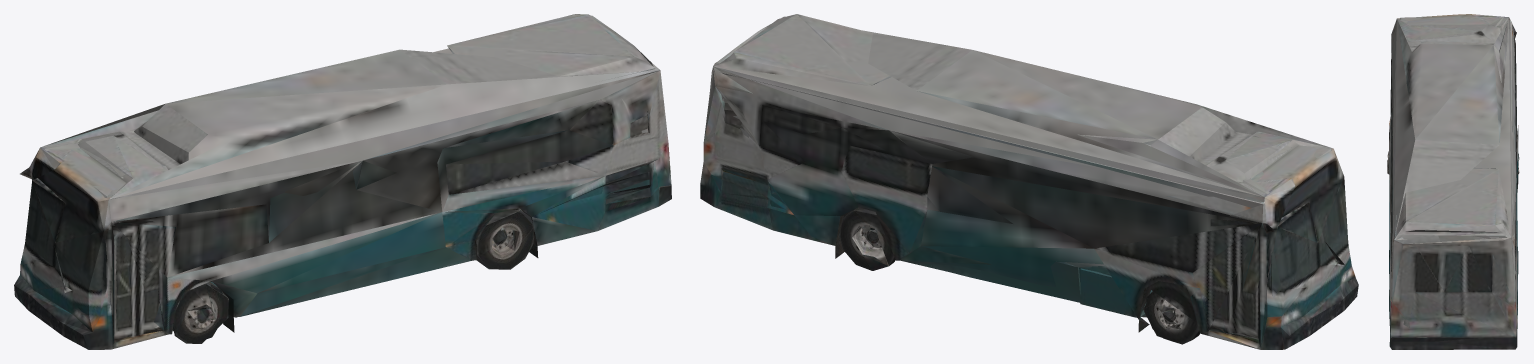
Rendered from prop-bus.glb.
3 renders of one model, left to right at view 1: azimuth 30°, elevation 25°; view 2: azimuth 150°, elevation 25°; view 3: azimuth 270°, elevation 25°, orthographic. The views are drawn at different scales.
Parts seen in each view (by area): view 1: output_unwrapped; view 2: output_unwrapped; view 3: output_unwrapped.
Part boxes in pixels (bbox=[...]): output_unwrapped: bbox=[14, 14, 671, 349]; output_unwrapped: bbox=[700, 14, 1358, 349]; output_unwrapped: bbox=[1387, 14, 1519, 349].
Bounding box in the file's own units: 1.9 × 0.5846 × 0.4533.
1 material, 1 textured.
